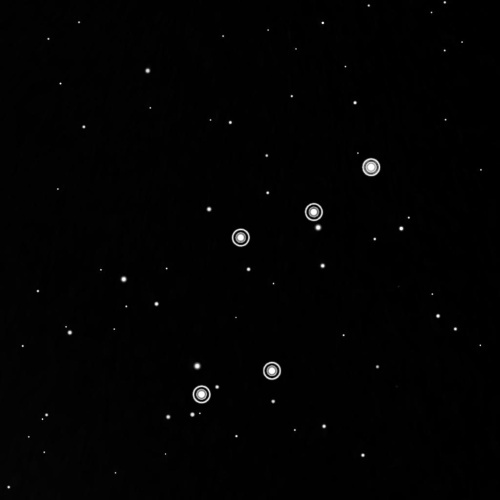lyra: (190, 152, 384, 408)
